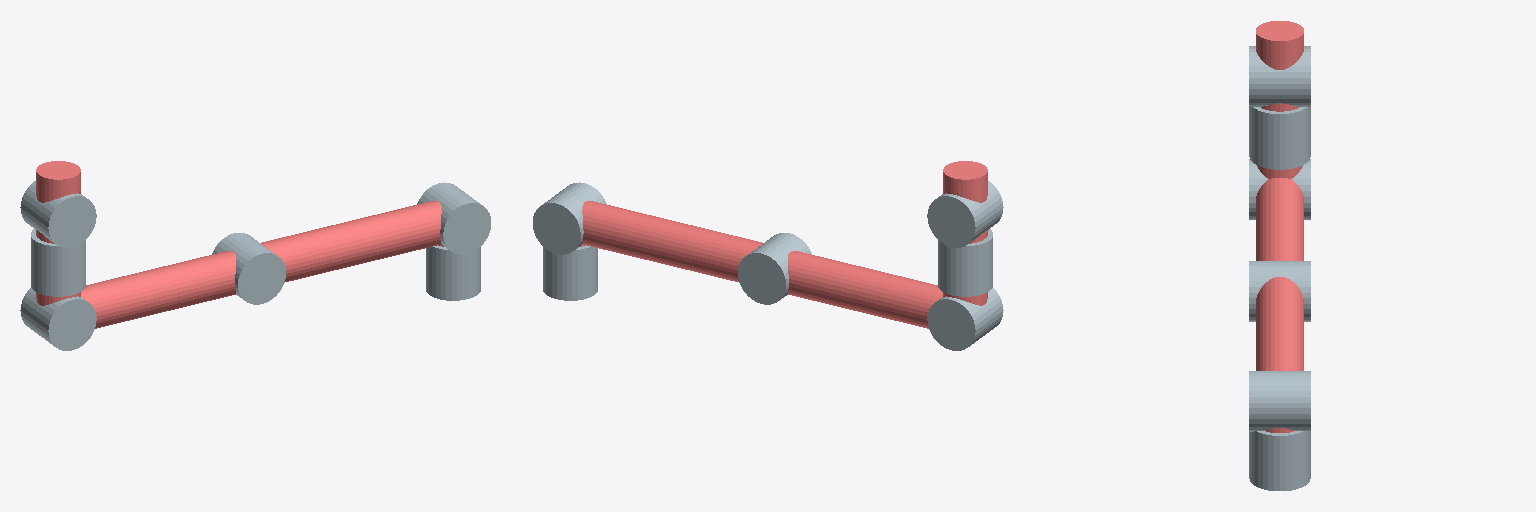
The robot description file, URDF, robot "GenericDH":
<robot name='GenericDH'>
	<material name='blue'>
		<color rgba='0 0 0.8 1'/>
	</material>
	<material name='red'>
		<color rgba='0.8 0 0 1'/>
	</material>
	<link name='a0'>
		<visual>
			<origin rpy='-0.0 0.0 0.0' xyz='0.0 0.0 0.0'/>
			<geometry>
				<cylinder length='0.1' radius='0.05'/>
			</geometry>
			<material name='blue'><color rgba='0.73 0.79 0.82 1'/></material>
		</visual>
	</link>
	<link name='l0'>
		<visual>
			<origin rpy='-0.0 0.0 0.0' xyz='0.0 0.0 0.0447295'/>
			<geometry>
				<cylinder length='0.089459' radius='0.04'/>
			</geometry>
			<material name='grey'><color rgba='0.99 0.54 0.54 1'/></material>
		</visual>
	</link>
	<joint name='move_l0_from_a0' type='continuous'>
		<parent link='a0'/>
		<child link='l0'/>
		<axis xyz='0.0 0.0 1.0'/>
		<origin rpy='0 0 0' xyz='0.0 0.0 0.0'/>
	</joint>
	<link name='a1'>
		<visual>
			<origin rpy='1.5707963267948966 0.0 0.0' xyz='0.0 0.0 0.089459'/>
			<geometry>
				<cylinder length='0.1' radius='0.05'/>
			</geometry>
			<material name='blue'><color rgba='0.73 0.79 0.82 1'/></material>
		</visual>
	</link>
	<joint name='fix_a1_to_l0' type='fixed'>
		<parent link='l0'/>
		<child link='a1'/>
		<origin rpy='0 0 0' xyz='0 0 0'/>
	</joint>
	<link name='l1'>
		<visual>
			<origin rpy='-0.0 -1.5707963267948963 0.0' xyz='-0.2125 -0.0 0.0'/>
			<geometry>
				<cylinder length='0.425' radius='0.04'/>
			</geometry>
			<material name='grey'><color rgba='0.99 0.54 0.54 1'/></material>
		</visual>
	</link>
	<joint name='move_l1_from_a1' type='continuous'>
		<parent link='a1'/>
		<child link='l1'/>
		<axis xyz='0.0 -1.0 0.0'/>
		<origin rpy='0 0 0' xyz='0.0 0.0 0.089459'/>
	</joint>
	<link name='a2'>
		<visual>
			<origin rpy='1.5707963267948966 0.0 0.0' xyz='-0.425 -0.0 0.0'/>
			<geometry>
				<cylinder length='0.1' radius='0.05'/>
			</geometry>
			<material name='blue'><color rgba='0.73 0.79 0.82 1'/></material>
		</visual>
	</link>
	<joint name='fix_a2_to_l1' type='fixed'>
		<parent link='l1'/>
		<child link='a2'/>
		<origin rpy='0 0 0' xyz='0 0 0'/>
	</joint>
	<link name='l2'>
		<visual>
			<origin rpy='-0.0 -1.5707963267948963 0.0' xyz='-0.196125 -0.0 0.0'/>
			<geometry>
				<cylinder length='0.39225' radius='0.04'/>
			</geometry>
			<material name='grey'><color rgba='0.99 0.54 0.54 1'/></material>
		</visual>
	</link>
	<joint name='move_l2_from_a2' type='continuous'>
		<parent link='a2'/>
		<child link='l2'/>
		<axis xyz='0.0 -1.0 0.0'/>
		<origin rpy='0 0 0' xyz='-0.425 -0.0 0.0'/>
	</joint>
	<link name='a3'>
		<visual>
			<origin rpy='1.5707963267948966 0.0 0.0' xyz='-0.39225 -0.0 0.0'/>
			<geometry>
				<cylinder length='0.1' radius='0.05'/>
			</geometry>
			<material name='blue'><color rgba='0.73 0.79 0.82 1'/></material>
		</visual>
	</link>
	<joint name='fix_a3_to_l2' type='fixed'>
		<parent link='l2'/>
		<child link='a3'/>
		<origin rpy='0 0 0' xyz='0 0 0'/>
	</joint>
	<link name='l3'>
		<visual>
			<origin rpy='-0.0 0.0 0.0' xyz='0.0 0.0 0.054575'/>
			<geometry>
				<cylinder length='0.10915' radius='0.04'/>
			</geometry>
			<material name='grey'><color rgba='0.99 0.54 0.54 1'/></material>
		</visual>
	</link>
	<joint name='move_l3_from_a3' type='continuous'>
		<parent link='a3'/>
		<child link='l3'/>
		<axis xyz='0.0 -1.0 0.0'/>
		<origin rpy='0 0 0' xyz='-0.39225 -0.0 0.0'/>
	</joint>
	<link name='a4'>
		<visual>
			<origin rpy='3.141592653589793 0.0 0.0' xyz='0.0 0.0 0.10915'/>
			<geometry>
				<cylinder length='0.1' radius='0.05'/>
			</geometry>
			<material name='blue'><color rgba='0.73 0.79 0.82 1'/></material>
		</visual>
	</link>
	<joint name='fix_a4_to_l3' type='fixed'>
		<parent link='l3'/>
		<child link='a4'/>
		<origin rpy='0 0 0' xyz='0 0 0'/>
	</joint>
	<link name='l4'>
		<visual>
			<origin rpy='-0.0 0.0 0.0' xyz='0.0 0.0 0.047325'/>
			<geometry>
				<cylinder length='0.09465' radius='0.04'/>
			</geometry>
			<material name='grey'><color rgba='0.99 0.54 0.54 1'/></material>
		</visual>
	</link>
	<joint name='move_l4_from_a4' type='continuous'>
		<parent link='a4'/>
		<child link='l4'/>
		<axis xyz='0.0 -1.2246467991473532e-16 -1.0'/>
		<origin rpy='0 0 0' xyz='0.0 0.0 0.10915'/>
	</joint>
	<link name='a5'>
		<visual>
			<origin rpy='1.5707963267948966 0.0 0.0' xyz='0.0 0.0 0.09465'/>
			<geometry>
				<cylinder length='0.1' radius='0.05'/>
			</geometry>
			<material name='blue'><color rgba='0.73 0.79 0.82 1'/></material>
		</visual>
	</link>
	<joint name='fix_a5_to_l4' type='fixed'>
		<parent link='l4'/>
		<child link='a5'/>
		<origin rpy='0 0 0' xyz='0 0 0'/>
	</joint>
	<link name='l5'>
		<visual>
			<origin rpy='-0.0 0.0 0.0' xyz='0.0 0.0 0.04115'/>
			<geometry>
				<cylinder length='0.0823' radius='0.04'/>
			</geometry>
			<material name='grey'><color rgba='0.99 0.54 0.54 1'/></material>
		</visual>
	</link>
	<joint name='move_l5_from_a5' type='continuous'>
		<parent link='a5'/>
		<child link='l5'/>
		<axis xyz='0.0 -1.0 0.0'/>
		<origin rpy='0 0 0' xyz='0.0 0.0 0.09465'/>
	</joint>
</robot>

--- What the picture shows (computed from the rendered views, not written in the file) ---
Views: 3 orthographic renders of the robot side by side, from view 1: azimuth 30°, elevation 25°; view 2: azimuth 150°, elevation 25°; view 3: azimuth 270°, elevation 25°.
Robot: GenericDH — 12 links, 11 joints (6 continuous, 5 fixed); root link a0; default pose: every joint at zero.
Links seen in each view (by area): view 1: l1, l2, a5, a3, a2, a1, a4, a0, l5; view 2: l1, l2, a5, a3, a2, a1, a4, a0, l5; view 3: l1, l2, a1, a4, a0, a5, l5, a2, a3.
Boxes of the visible links, bbox=[...] form: l1: bbox=[261, 201, 441, 281]; l2: bbox=[81, 251, 235, 328]; a5: bbox=[20, 181, 96, 247]; a3: bbox=[20, 288, 96, 350]; a2: bbox=[212, 233, 285, 304]; a1: bbox=[417, 182, 490, 254]; a4: bbox=[31, 229, 85, 296]; a0: bbox=[426, 245, 480, 300]; l5: bbox=[36, 161, 80, 202]; l1: bbox=[582, 201, 762, 281]; l2: bbox=[788, 251, 942, 328]; a5: bbox=[927, 181, 1003, 247]; a3: bbox=[927, 288, 1003, 350]; a2: bbox=[738, 233, 811, 304]; a1: bbox=[533, 182, 606, 254]; a4: bbox=[938, 229, 992, 296]; a0: bbox=[543, 245, 597, 300]; l5: bbox=[943, 161, 987, 202]; l1: bbox=[1256, 277, 1303, 370]; l2: bbox=[1256, 178, 1303, 260]; a1: bbox=[1249, 371, 1310, 431]; a4: bbox=[1249, 107, 1310, 169]; a0: bbox=[1249, 431, 1310, 490]; a5: bbox=[1249, 46, 1310, 106]; l5: bbox=[1256, 21, 1303, 69]; a2: bbox=[1249, 261, 1310, 321]; a3: bbox=[1249, 159, 1310, 219].
Bounding box of the posed robot: 0.9173 × 0.1 × 0.4256 m (x, y, z).
Geometry: primitives only (box / cylinder / sphere), no mesh files.